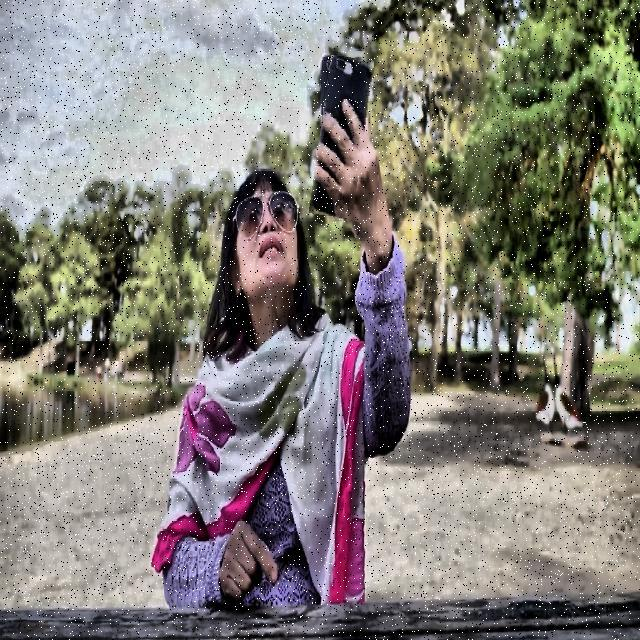Phone: (315, 56, 369, 218)
